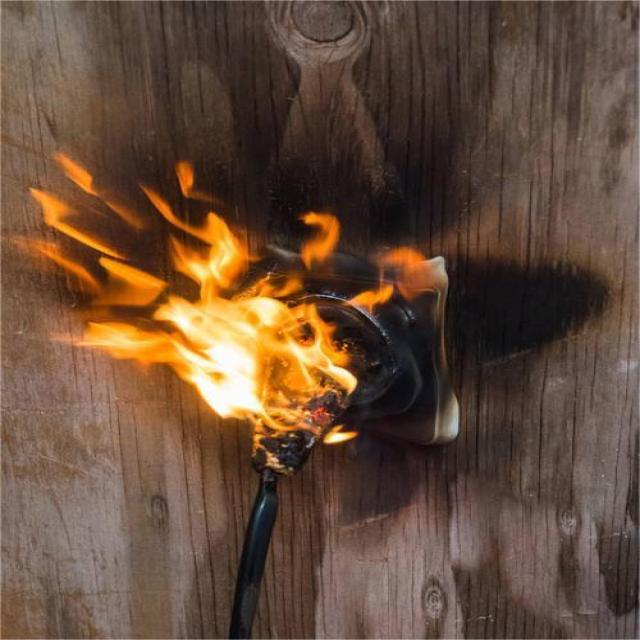Fire: (0, 147, 447, 456)
